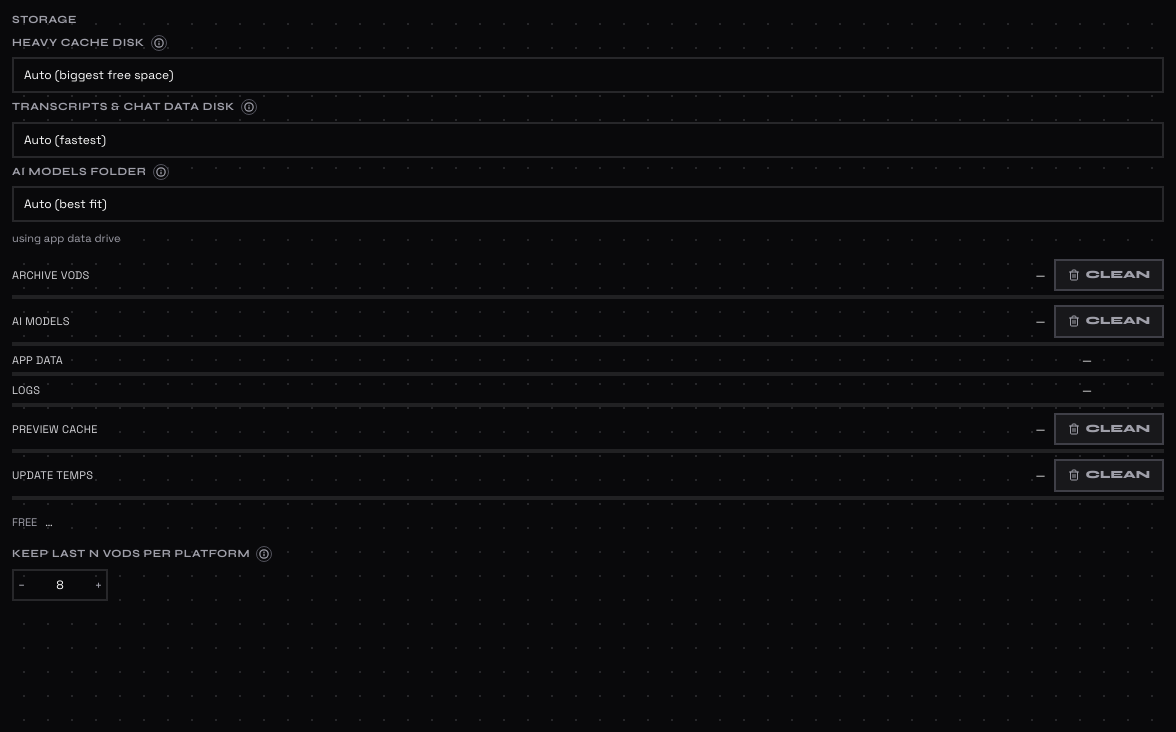
Scenario: DiskSection › posts cleanup and refreshes usage
Click the button with aria-label "clean preview_cache" at (1109, 429), box 1054,412 -> 1164,445
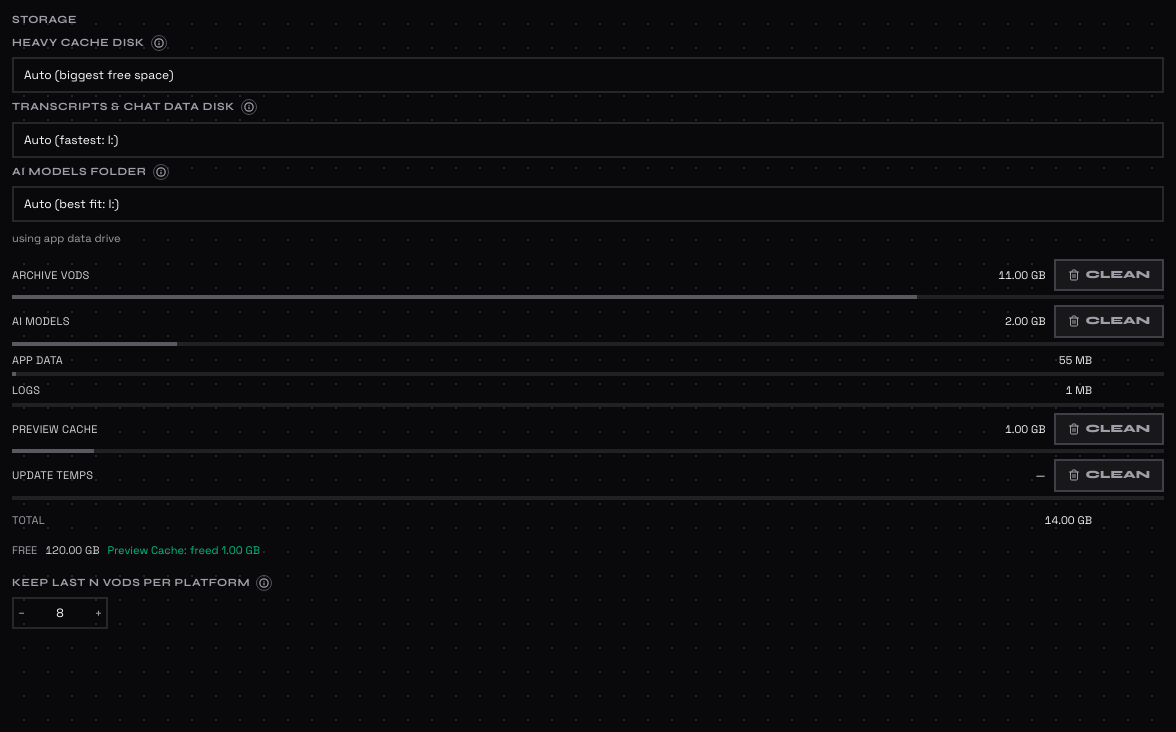
Check: the text "Preview Cache: freed 1.00 GB" is shown, box 108,542 -> 260,558
